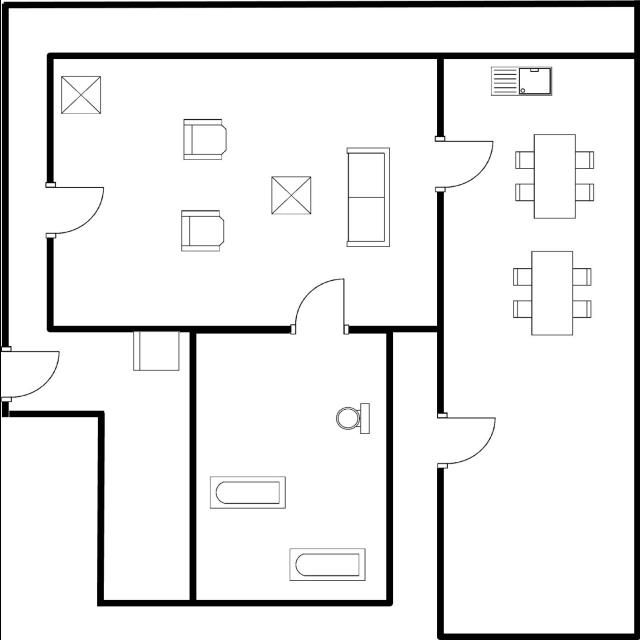armchair: (178, 113, 232, 165), (178, 202, 228, 254)
coffee_table: (56, 72, 108, 118), (267, 172, 315, 220)
dining_table: (505, 246, 599, 342), (507, 127, 599, 223)
large_sink: (330, 398, 374, 438)
large_sofa: (339, 142, 395, 250)
sink: (485, 62, 555, 102)
small_sofa: (126, 326, 182, 374)
tub: (284, 542, 370, 585), (202, 472, 290, 514)
